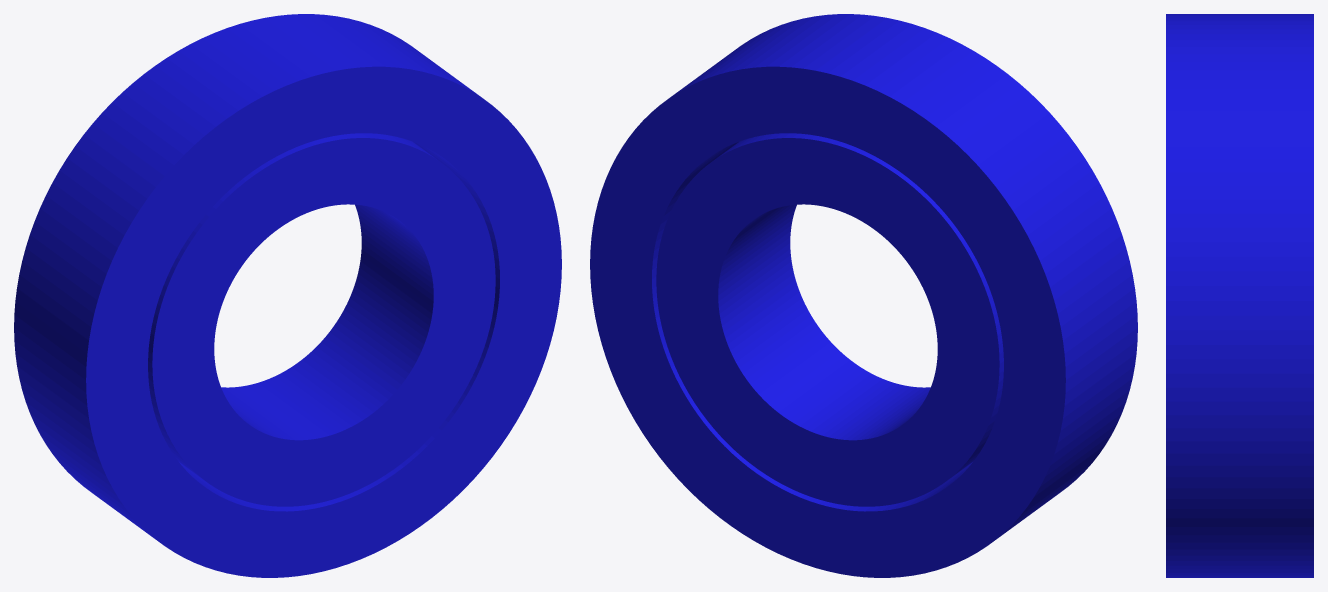
Rendered from bearing.obj.
3 renders of one model, left to right at view 1: azimuth 30°, elevation 25°; view 2: azimuth 150°, elevation 25°; view 3: azimuth 270°, elevation 25°, orthographic. The views are drawn at different scales.
Size of the model in its own units: 0.0457 by 0.0457 by 0.012.
